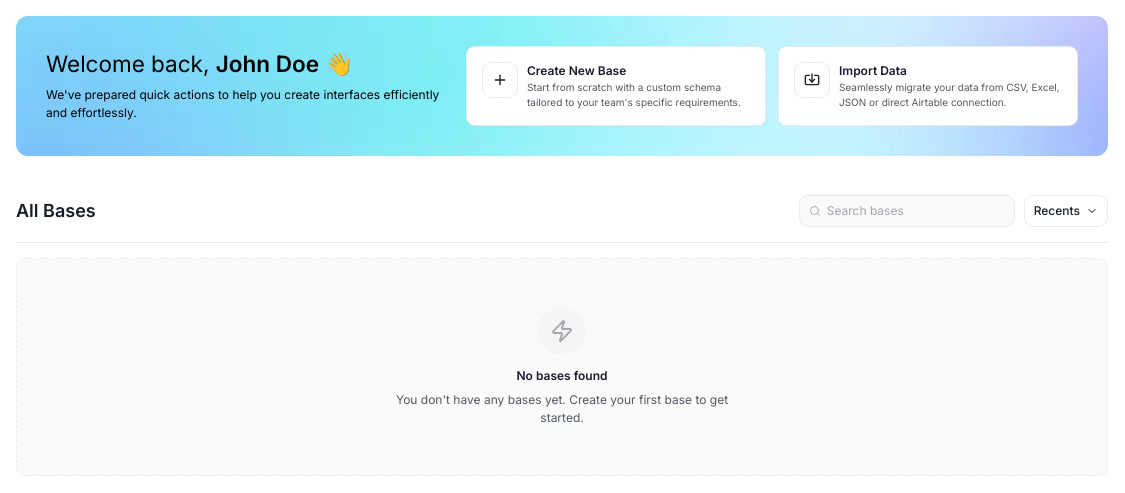
Test case: HomePage › Sorting › should close dropdown after selecting sort option
What coordinates should you click on to do the following:
click the button "Recents"
I would click on:
 (1066, 211)
Its box is [1024,195,1108,227].
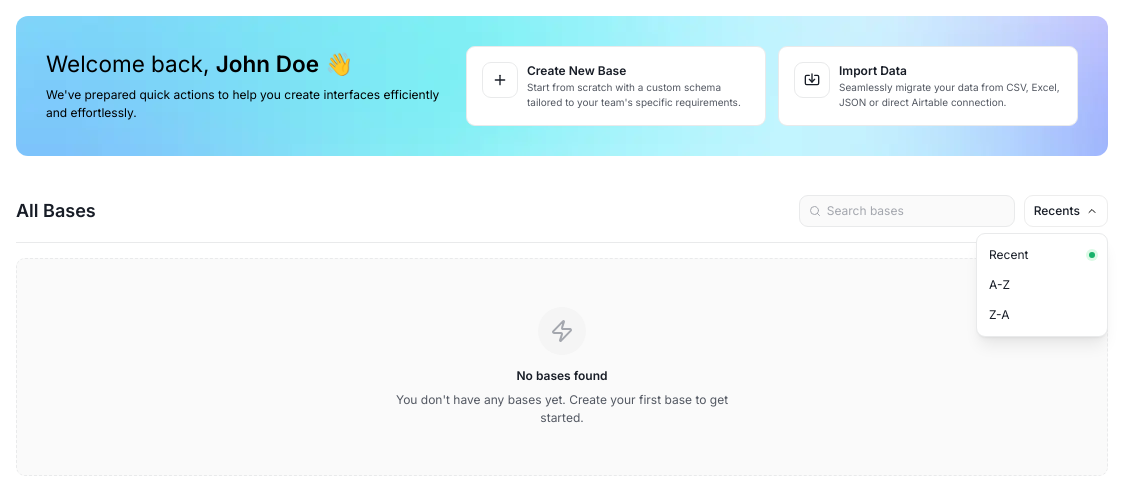
What coordinates should you click on to do the following:
click the button "A-Z"
I would click on:
 (1042, 285)
Its box is [983,270,1101,300].
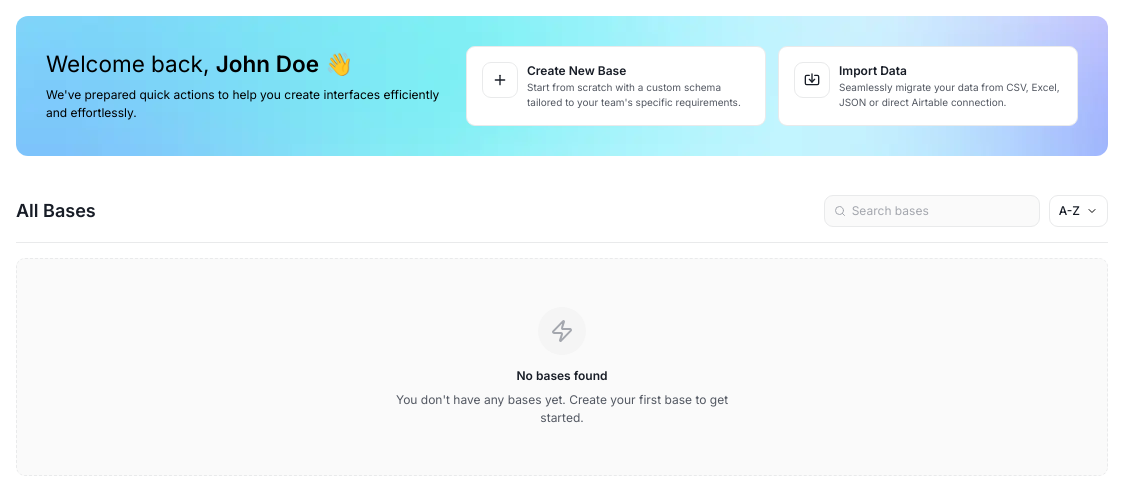
Result: the button "Z-A" is gone
